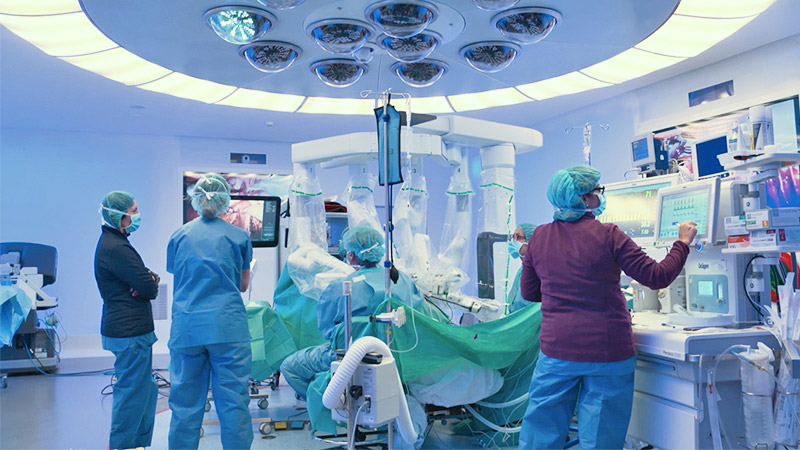bedside_monitor: (182, 195, 283, 249), (594, 189, 657, 243), (655, 186, 718, 240), (693, 137, 737, 176)
breathing_tube: (465, 391, 532, 433)
iv_pole: (360, 87, 411, 347), (564, 122, 610, 166)
staff: (519, 165, 697, 450), (280, 226, 422, 399), (166, 172, 254, 450), (94, 191, 161, 450), (507, 223, 536, 313)
surgical_light: (303, 3, 376, 55), (202, 5, 276, 46), (489, 5, 563, 45), (364, 1, 443, 38), (457, 39, 523, 74), (377, 28, 443, 63), (237, 41, 305, 74), (391, 58, 451, 90), (310, 58, 371, 88)
